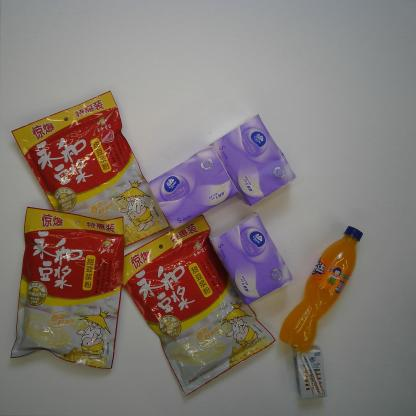Drink: (278, 225, 365, 351)
Instant Drink: (108, 212, 276, 399), (11, 89, 169, 258), (7, 204, 126, 370)
Milk: (292, 344, 327, 400)
Tissue: (206, 209, 294, 308), (210, 114, 296, 208), (148, 144, 239, 230)
